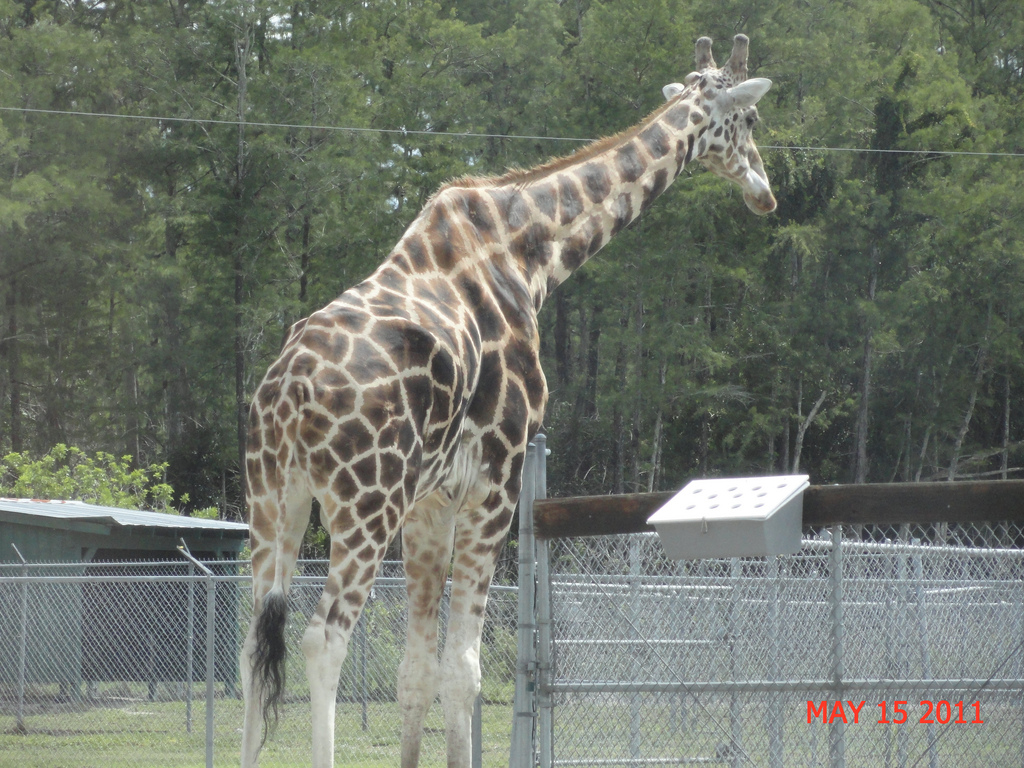giraffe: (238, 42, 828, 757)
